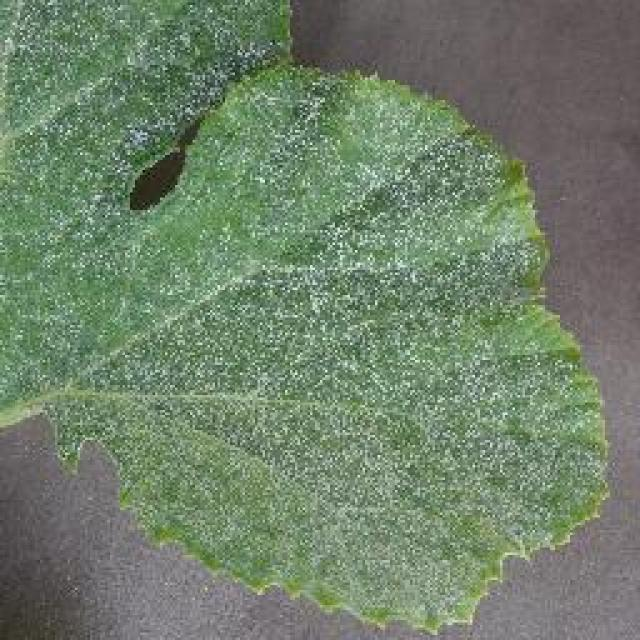Squ_Powdery_mildew: (42, 95, 470, 558)
